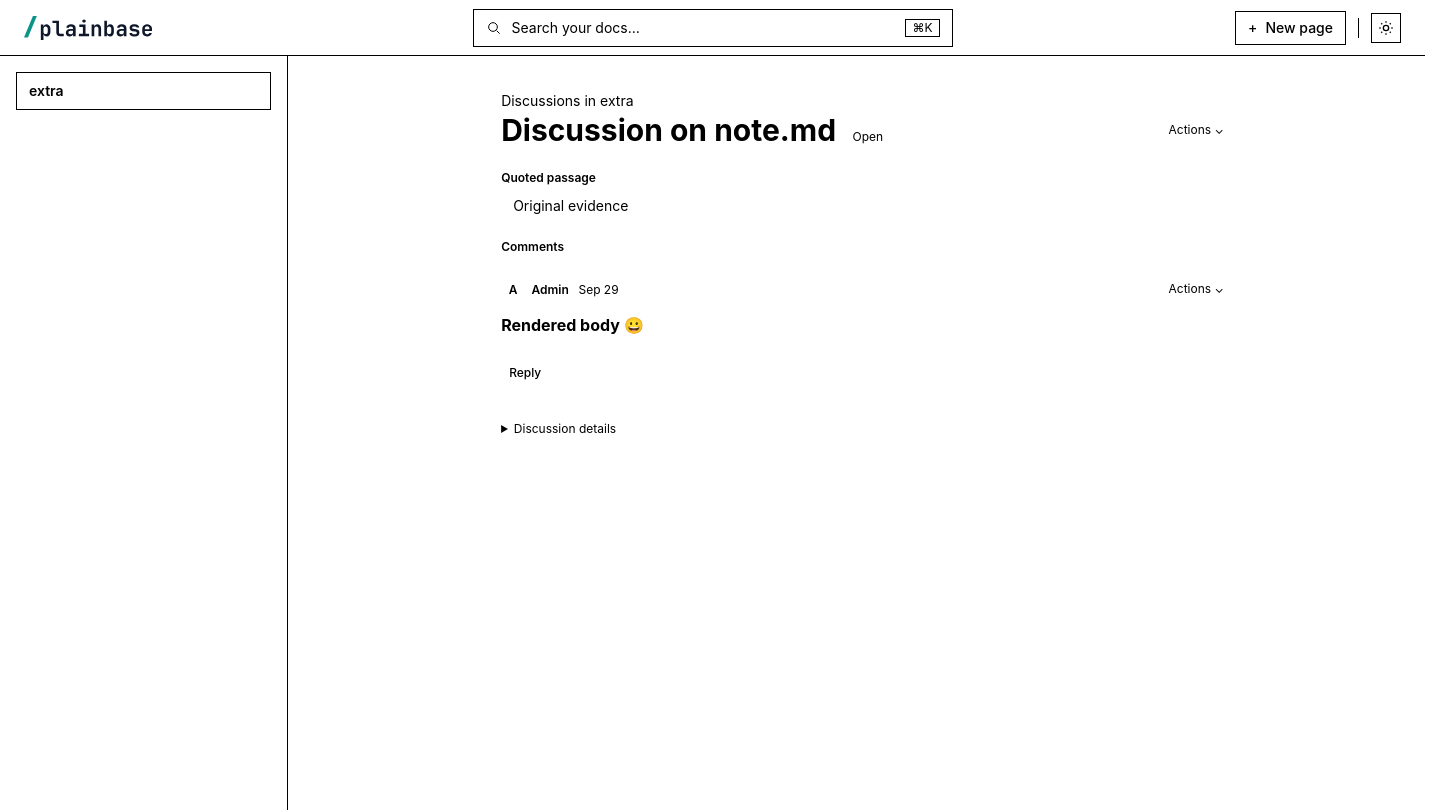
Test: omits recovery for empty edit validation (server: true) while retaining the draft
The width and height of the screenshot is (1440, 810).
Click the heading labelled "Actions ⌄" in the row of "Sep 29" at (1196, 289), box 1164,278 -> 1228,300
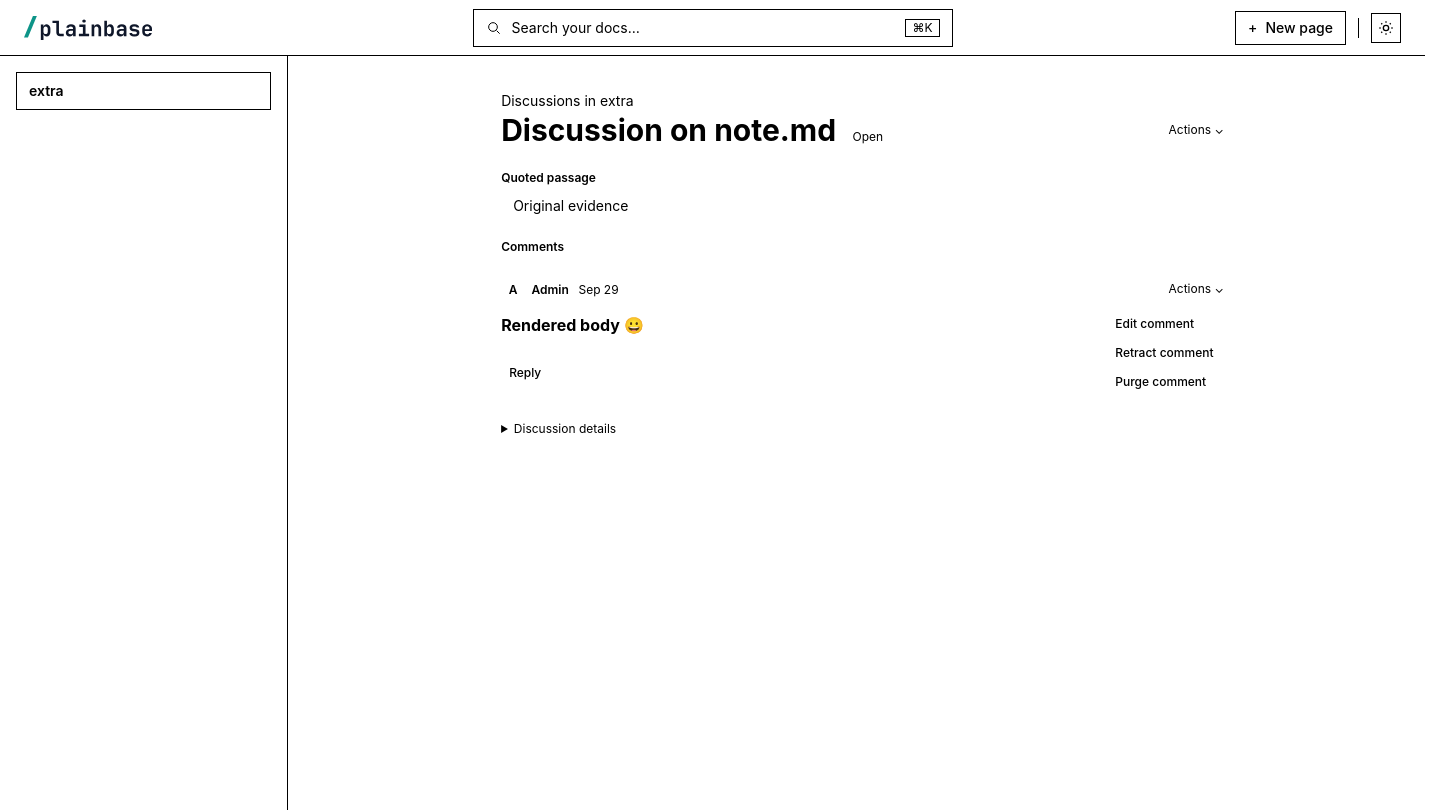
Click the button "Edit comment" at (1164, 325), box 1107,312 -> 1222,337
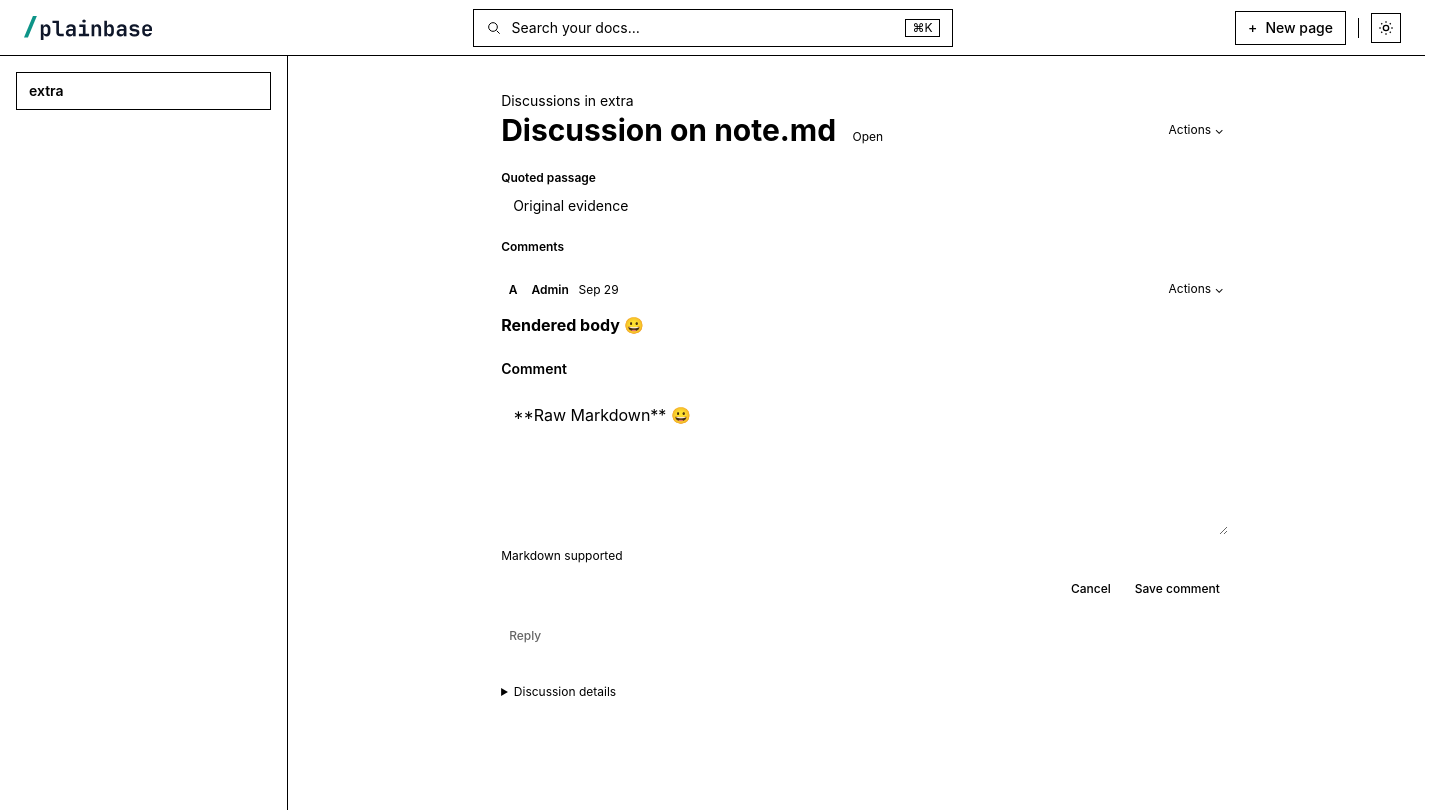
Replace the text in the text box labelled "Comment" with "Keep this unsaved comment" at (864, 463), box 501,391 -> 1228,535
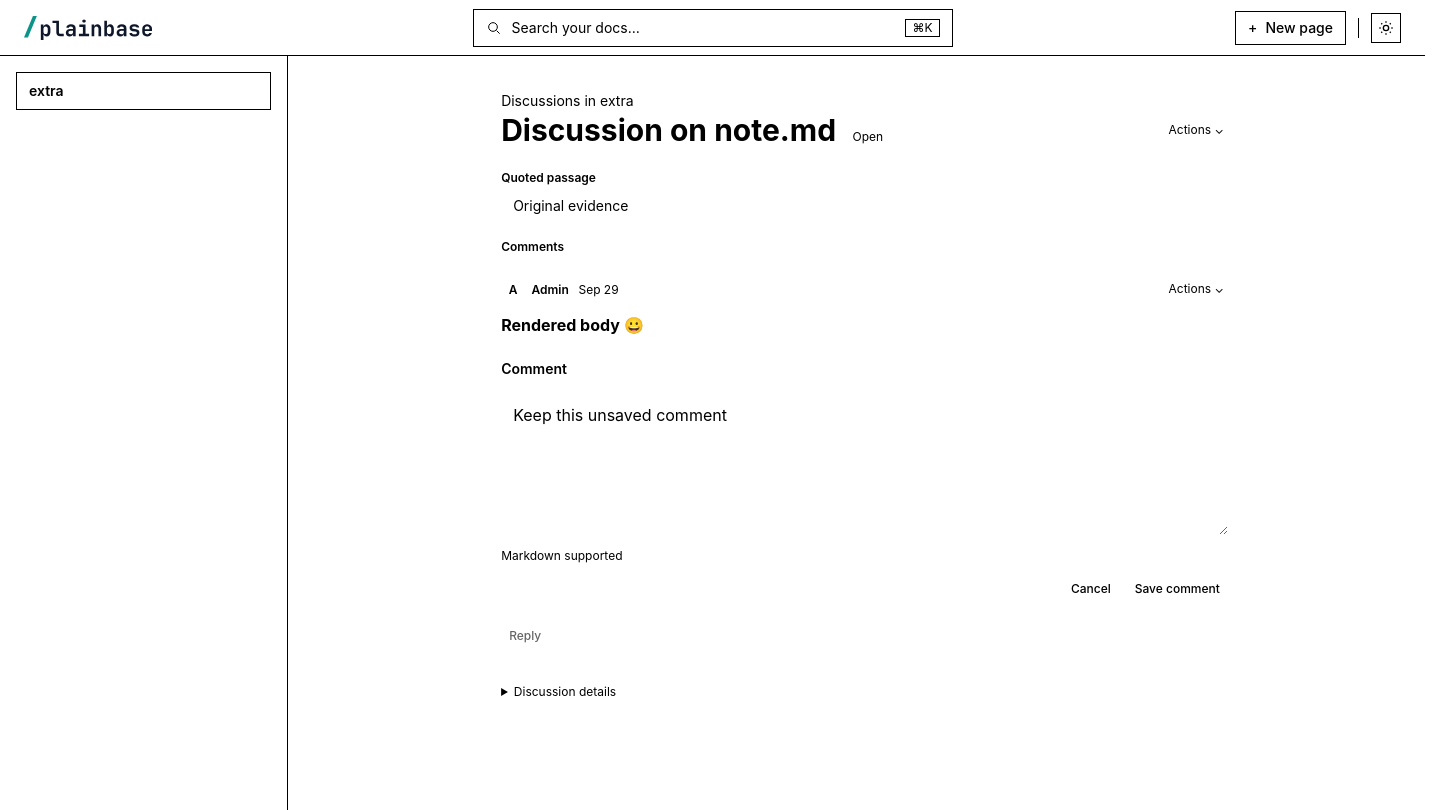
Click the button "Save comment" at (1177, 590), box 1127,577 -> 1228,602
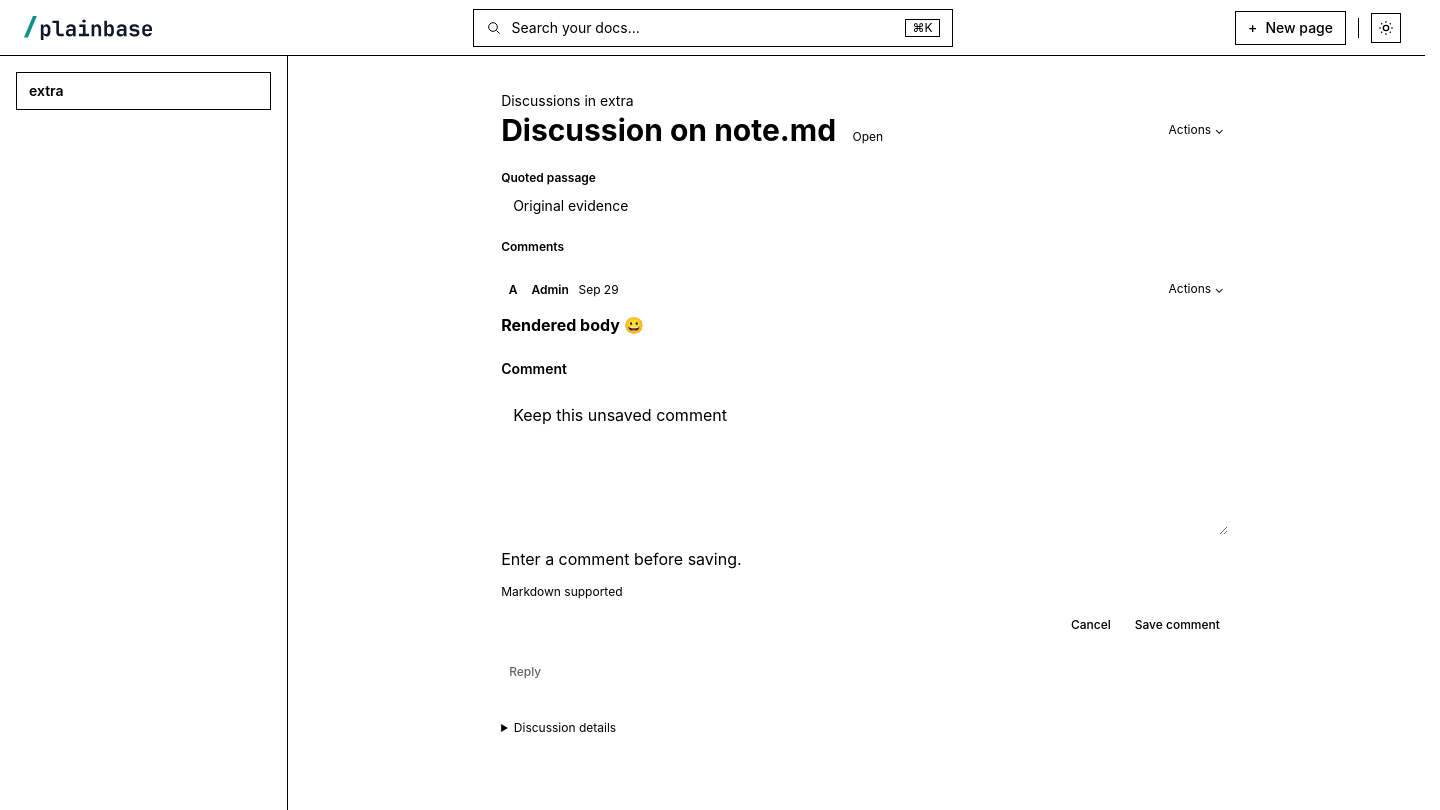
expect the message reads "Enter a comment before saving.": met, box 501,549 -> 742,569
